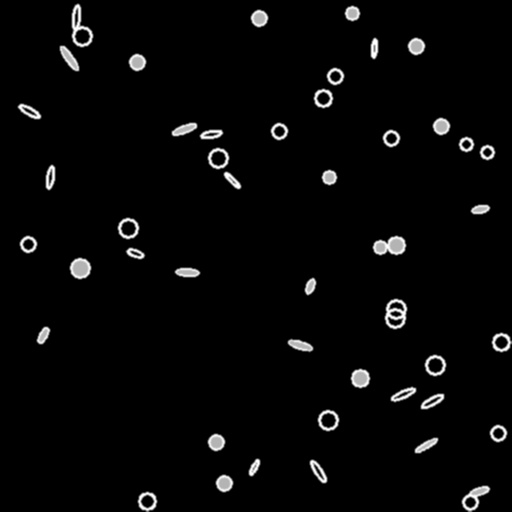pseudomonas: (58, 45, 80, 71), (309, 459, 327, 483), (420, 392, 444, 410), (390, 386, 416, 402), (18, 102, 40, 120), (414, 437, 438, 453), (287, 338, 313, 352), (172, 122, 196, 136), (223, 171, 241, 189), (71, 4, 81, 30), (36, 326, 50, 344), (45, 166, 55, 188), (200, 129, 222, 139), (248, 458, 260, 476), (470, 485, 488, 496), (126, 248, 144, 258), (176, 268, 198, 276), (472, 204, 488, 214), (305, 278, 315, 294), (371, 38, 377, 58)
synechocystis: (119, 219, 137, 237), (319, 411, 337, 429), (71, 259, 89, 277), (426, 356, 444, 374), (209, 149, 227, 167), (386, 309, 404, 327), (387, 300, 405, 318), (73, 27, 91, 45), (315, 90, 331, 106), (352, 370, 368, 386), (493, 334, 509, 350), (139, 493, 155, 509), (388, 237, 404, 253), (491, 426, 505, 440), (21, 237, 35, 251), (328, 69, 342, 83), (217, 476, 231, 490), (272, 124, 286, 138), (463, 495, 477, 509), (384, 131, 398, 145), (434, 119, 448, 133), (209, 435, 223, 449), (409, 39, 423, 53), (130, 55, 144, 69), (252, 11, 266, 25), (481, 146, 493, 158), (323, 171, 335, 183), (374, 241, 386, 253), (460, 138, 472, 150), (346, 7, 358, 19)
